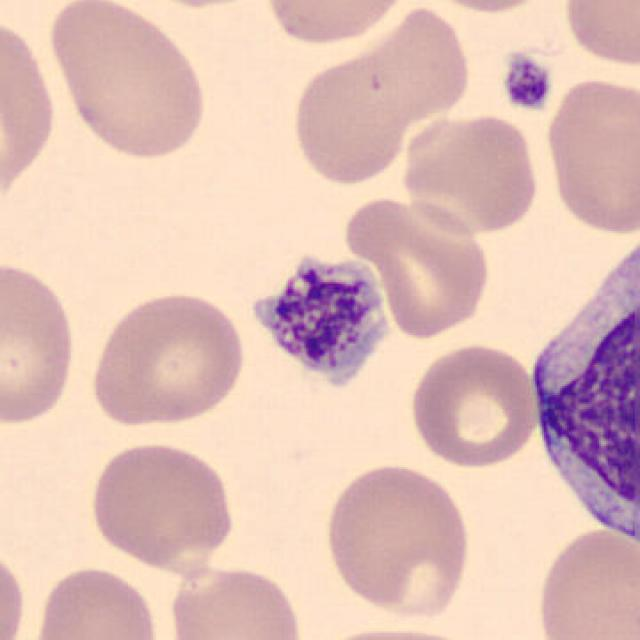Monocyte: (521, 217, 640, 561)
Platelets: (240, 242, 402, 404), (498, 51, 554, 115)
RBC: (45, 0, 212, 162), (320, 458, 476, 622), (84, 286, 250, 430), (338, 192, 494, 342), (85, 437, 238, 575), (290, 38, 425, 188), (398, 109, 544, 238), (406, 338, 542, 471), (334, 2, 475, 127), (540, 72, 638, 238), (0, 254, 80, 430), (0, 7, 62, 217), (532, 525, 638, 640), (165, 562, 308, 640), (27, 562, 165, 640), (260, 0, 414, 48), (556, 0, 640, 71), (302, 622, 486, 640), (0, 539, 30, 640), (412, 0, 562, 16)
